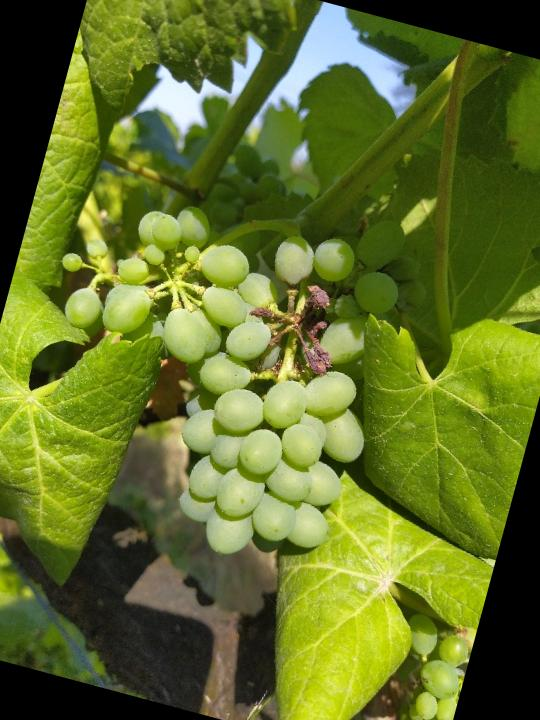grape: (0, 137, 446, 593)
